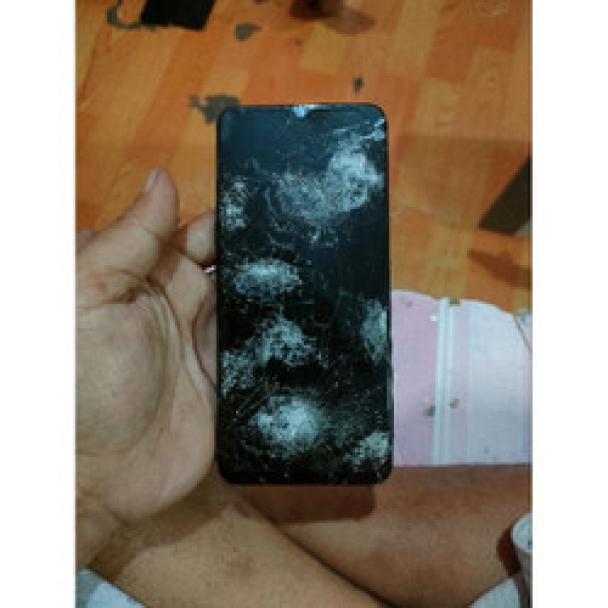Handphone: (215, 104, 394, 491)
